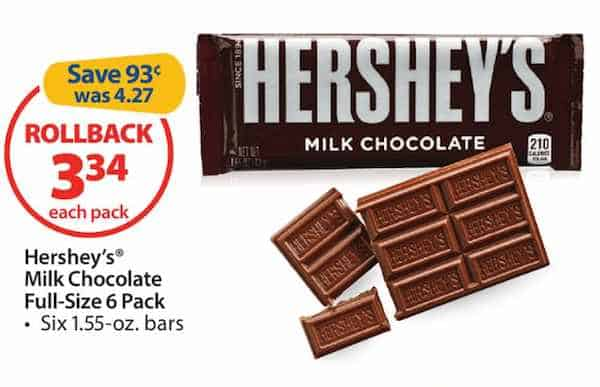hershey: (194, 28, 584, 175)
